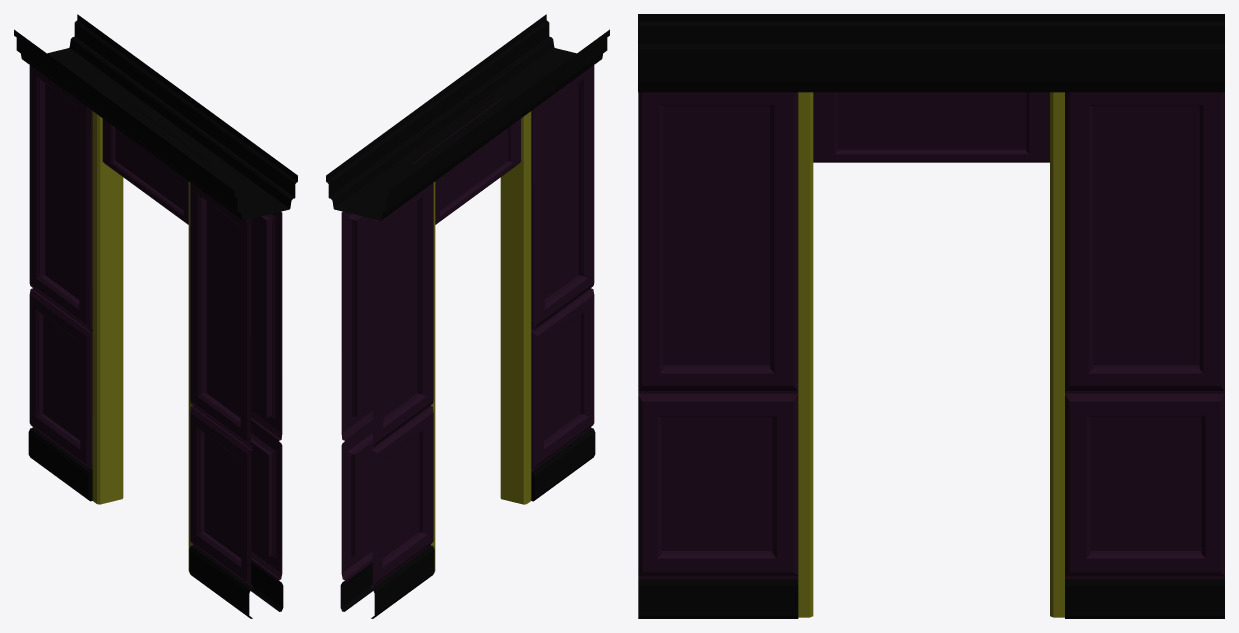
Rendered from SM_Wall_Door.fbx.
3 views of the same model, side by side, from view 1: azimuth 30°, elevation 25°; view 2: azimuth 150°, elevation 25°; view 3: azimuth 270°, elevation 25° (orthographic). The views are drawn at different scales.
Visible parts, largest first — view 1: pCube13; view 2: pCube13; view 3: pCube13.
Boxes of the visible parts, box(x1,y1,x2,y2) form: pCube13: box(14, 14, 297, 618); pCube13: box(326, 14, 609, 618); pCube13: box(638, 14, 1224, 618).
Size of the model in its own units: 49.61 by 324 by 300.
